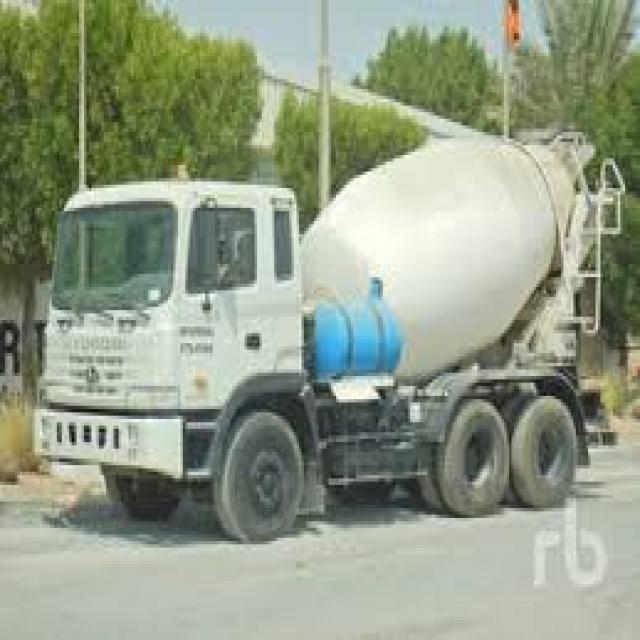Mixer Truck: (29, 127, 628, 548)
